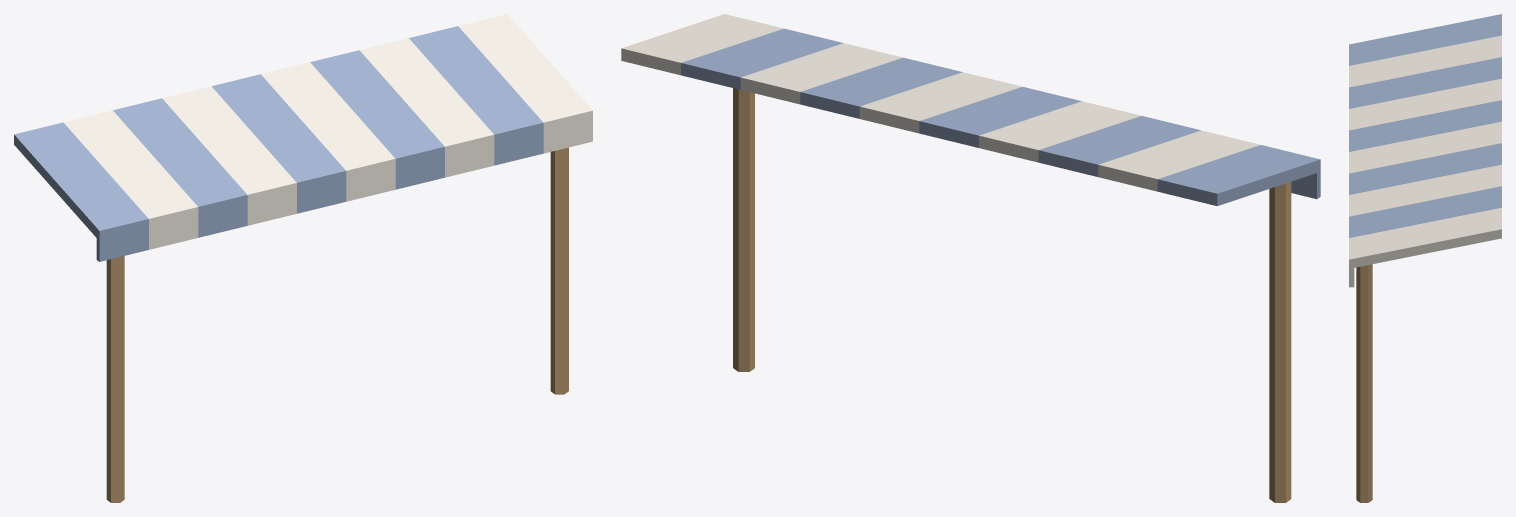
Rendered from awning_w5_0_brick.glb.
3 views of the same model, side by side, from view 1: azimuth 30°, elevation 25°; view 2: azimuth 150°, elevation 25°; view 3: azimuth 270°, elevation 25° (orthographic). The views are drawn at different scales.
Visible parts, largest first — view 1: Player; view 2: Player; view 3: Player.
Part boxes in pixels (x1,y1,x2,y2): Player: (14, 14, 592, 502); Player: (621, 14, 1320, 502); Player: (1349, 14, 1501, 502).
Bounding box in the file's own units: 5 × 3.05 × 1.5.
